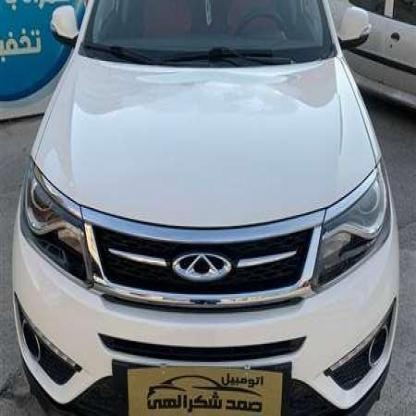Car: (11, 0, 399, 416), (309, 0, 416, 127)
